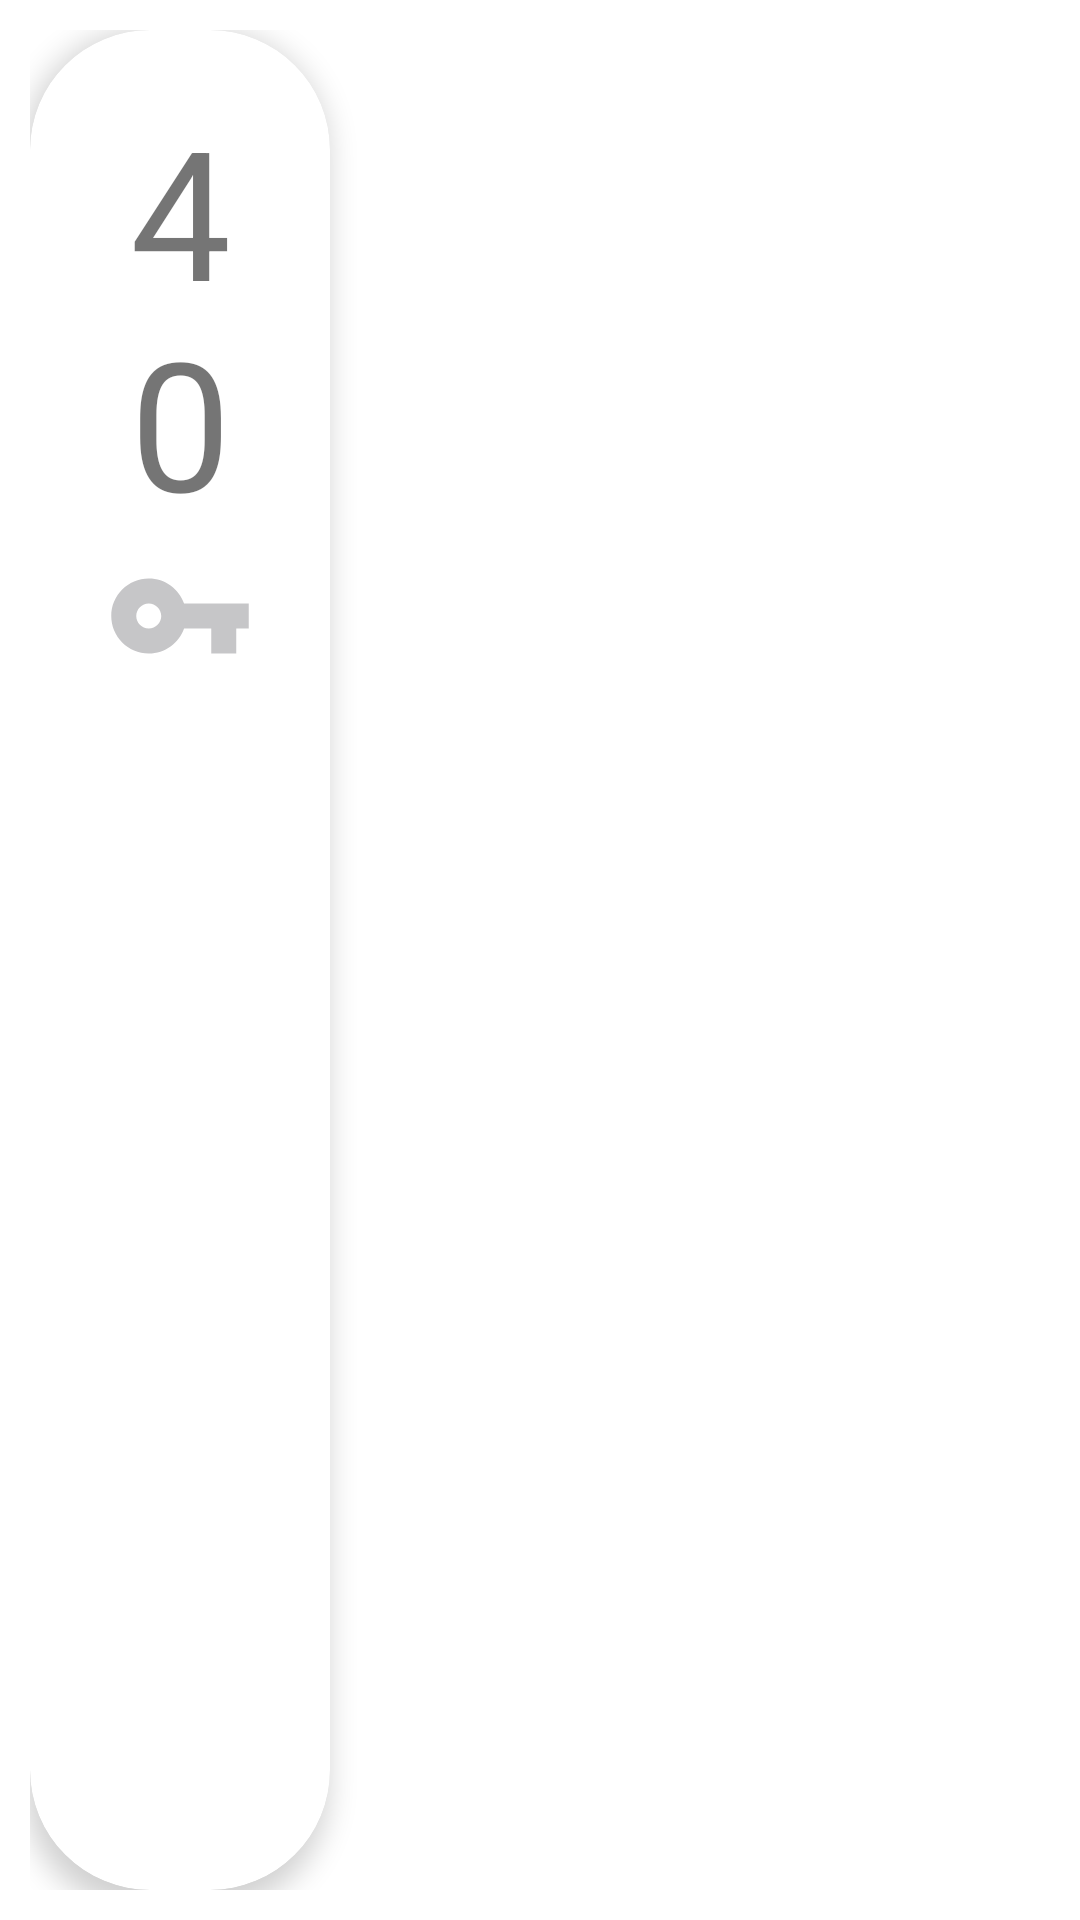

Icon click points for this 1080px×1920px phone screenshot, format [x,y]:
anahtar: [180,616]
